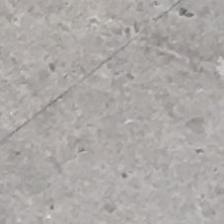Non_Crack: (1, 24, 202, 183)
